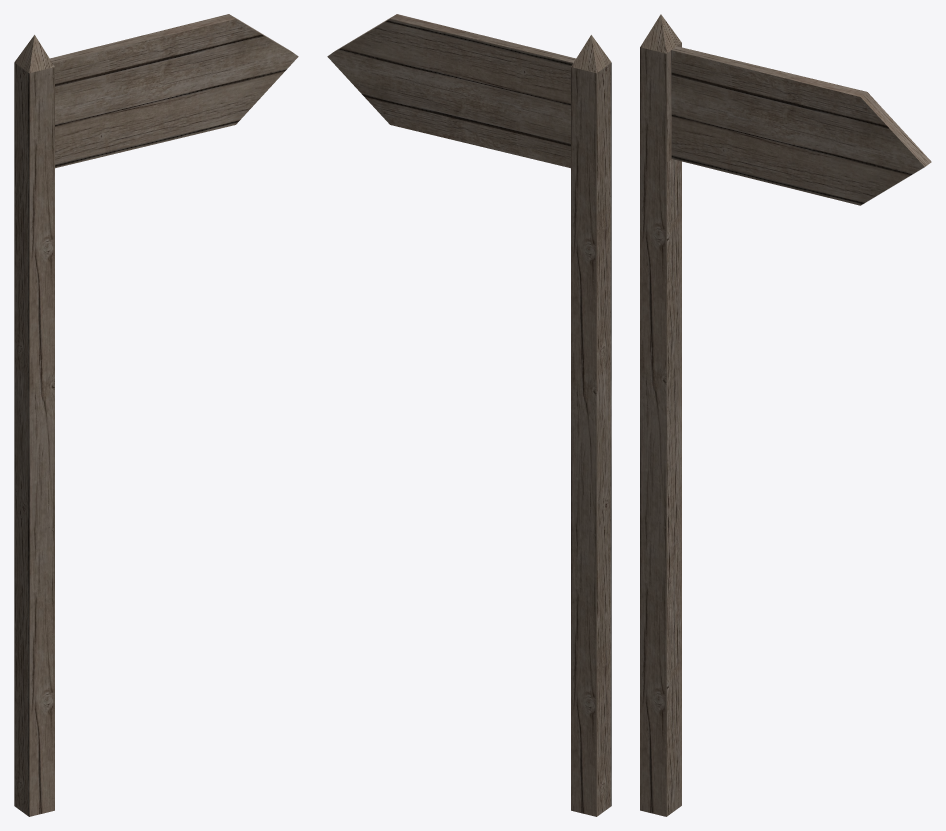
Rendered from sign.fbx.
3 renders of one model, left to right at view 1: azimuth 30°, elevation 25°; view 2: azimuth 150°, elevation 25°; view 3: azimuth 330°, elevation 25°, orthographic. The views are drawn at different scales.
Parts seen in each view (by area): view 1: pCube1; view 2: pCube1; view 3: pCube1.
Part boxes in pixels (left/top/right/bottom): pCube1: left=14, top=14, right=298, bottom=816; pCube1: left=327, top=14, right=611, bottom=816; pCube1: left=640, top=14, right=931, bottom=816.
Size of the model in its own units: 3.73 by 10.09 by 0.3522.
Materials: 1 (1 with a texture image).
